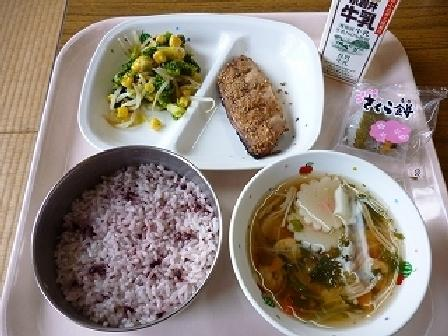Meat: (207, 55, 300, 164)
Milk: (312, 0, 409, 87)
Rice: (34, 152, 221, 322)
Soups: (232, 160, 423, 328)
salad with sauce: (94, 27, 202, 131)
